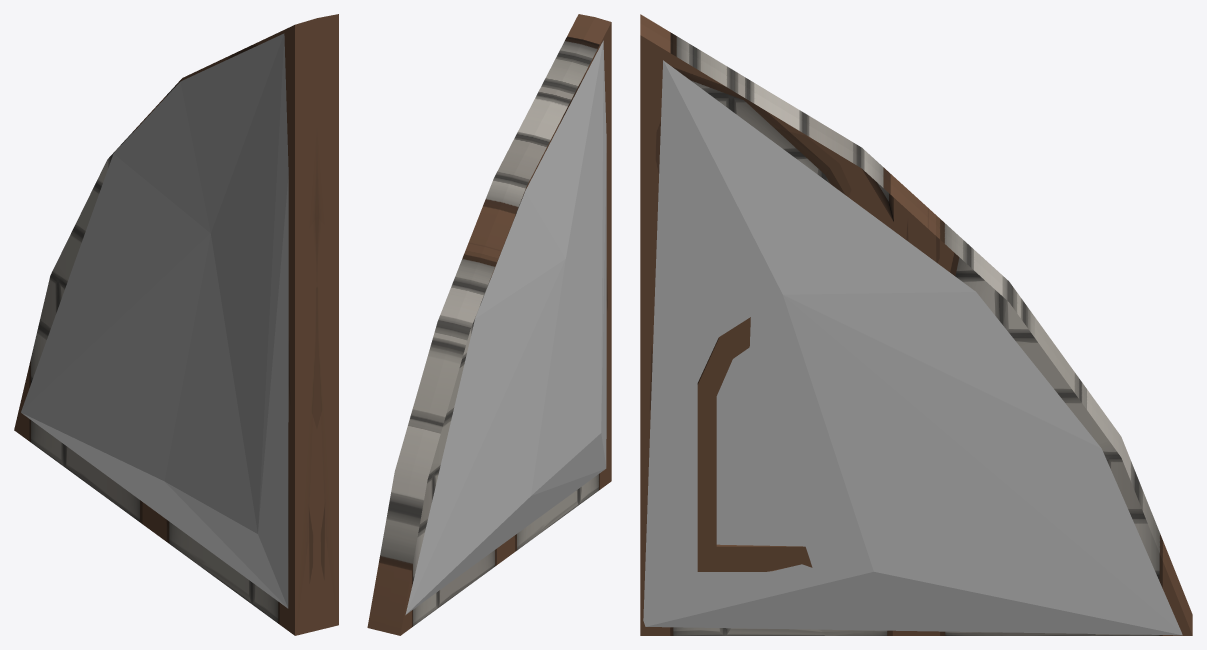
Rendered from SM_Bld_Wall_End_Concave_Small_Window_01.fbx.
3 views of the same model, side by side, from view 1: azimuth 30°, elevation 25°; view 2: azimuth 150°, elevation 25°; view 3: azimuth 270°, elevation 25° (orthographic). The views are drawn at different scales.
Visible parts, largest first — view 1: SM_Bld_Wall_End_Concave_Small_Window_01_ConvexHulls, SM_Bld_Wall_End_Concave_Small_Window_01; view 2: SM_Bld_Wall_End_Concave_Small_Window_01_ConvexHulls, SM_Bld_Wall_End_Concave_Small_Window_01; view 3: SM_Bld_Wall_End_Concave_Small_Window_01_ConvexHulls, SM_Bld_Wall_End_Concave_Small_Window_01.
Boxes of the visible parts, box(x1,y1,x2,y2) form: SM_Bld_Wall_End_Concave_Small_Window_01_ConvexHulls: box(21, 33, 288, 608); SM_Bld_Wall_End_Concave_Small_Window_01: box(14, 14, 338, 635); SM_Bld_Wall_End_Concave_Small_Window_01_ConvexHulls: box(405, 40, 606, 614); SM_Bld_Wall_End_Concave_Small_Window_01: box(367, 14, 611, 635); SM_Bld_Wall_End_Concave_Small_Window_01_ConvexHulls: box(643, 60, 1182, 635); SM_Bld_Wall_End_Concave_Small_Window_01: box(640, 14, 1192, 635).
Size of the model in its own units: 33.9 by 250 by 301.
3 materials, 2 textured.
